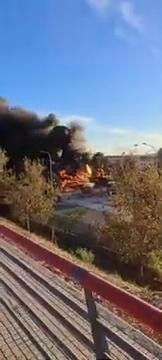Fire: (50, 168, 99, 189)
Smoke: (1, 98, 105, 164)
